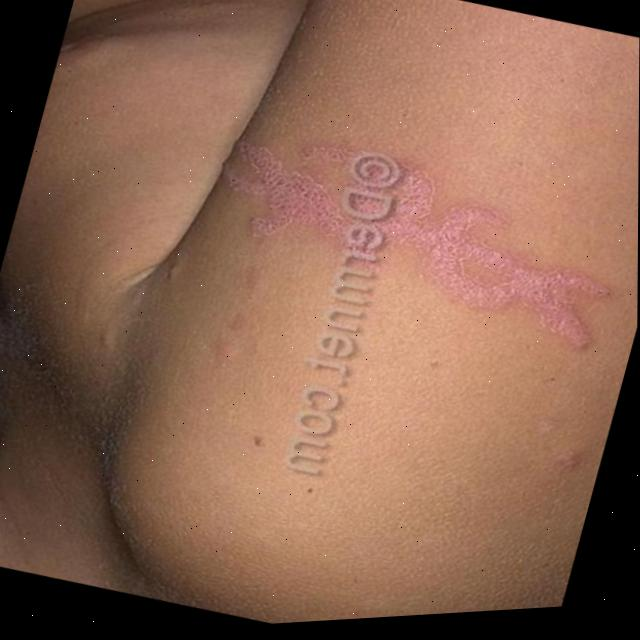Eczema: (248, 115, 639, 406)
